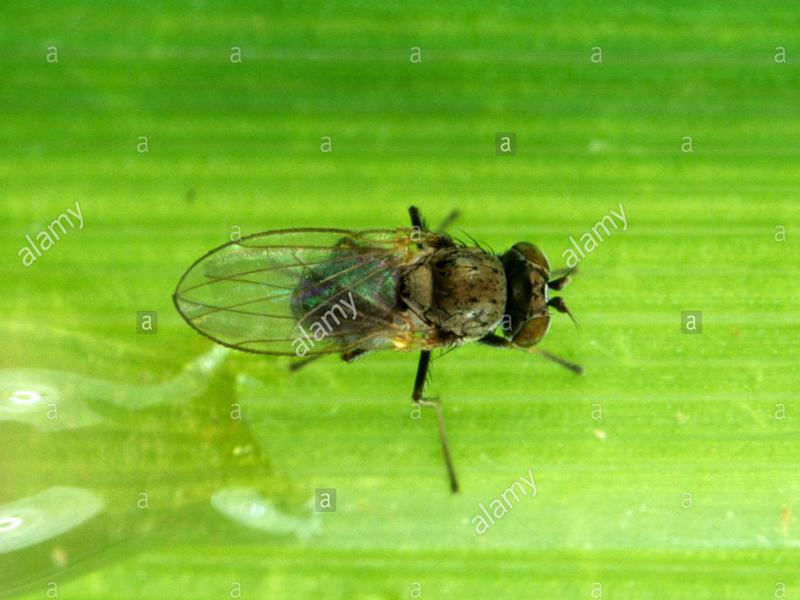Whorl_maggot: (164, 213, 580, 390)
